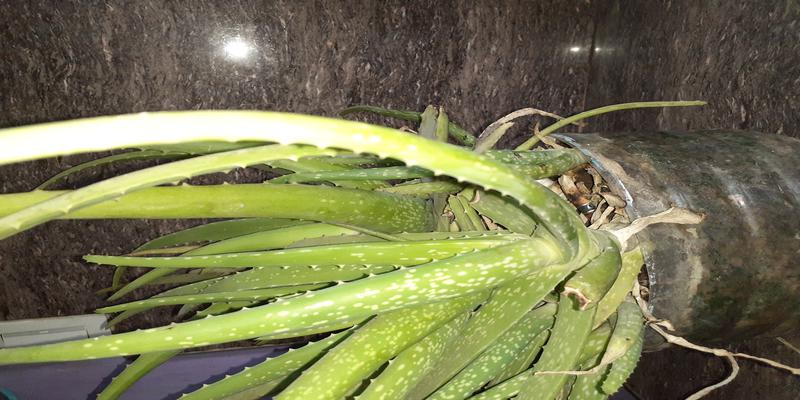Aloevera: (112, 118, 646, 392)
